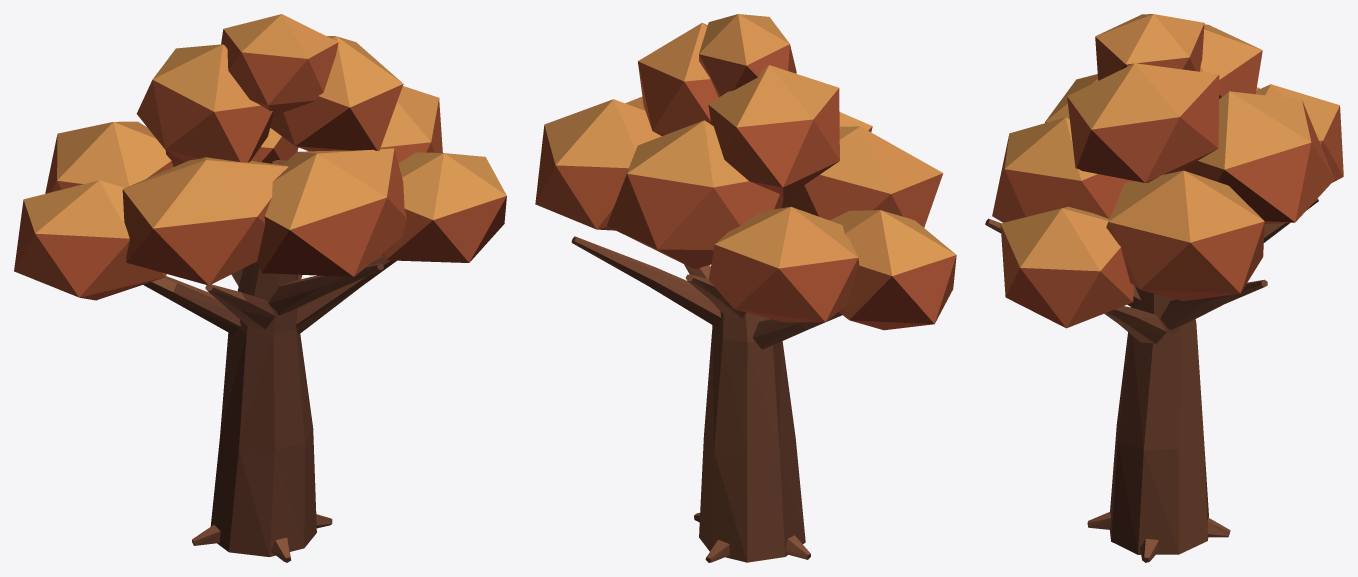
3 views of the same model, side by side, from view 1: azimuth 30°, elevation 25°; view 2: azimuth 150°, elevation 25°; view 3: azimuth 270°, elevation 25° (orthographic).
Visible parts, largest first — view 1: WK_Tree_Maple_EmberCrown_LOD0_High; view 2: WK_Tree_Maple_EmberCrown_LOD0_High; view 3: WK_Tree_Maple_EmberCrown_LOD0_High.
Boxes of the visible parts, x1=… form: WK_Tree_Maple_EmberCrown_LOD0_High: x1=14, y1=14, x2=506, y2=562; WK_Tree_Maple_EmberCrown_LOD0_High: x1=535, y1=14, x2=956, y2=562; WK_Tree_Maple_EmberCrown_LOD0_High: x1=985, y1=14, x2=1343, y2=562.
Size of the model in its own units: 4.9 by 5.92 by 3.64.
